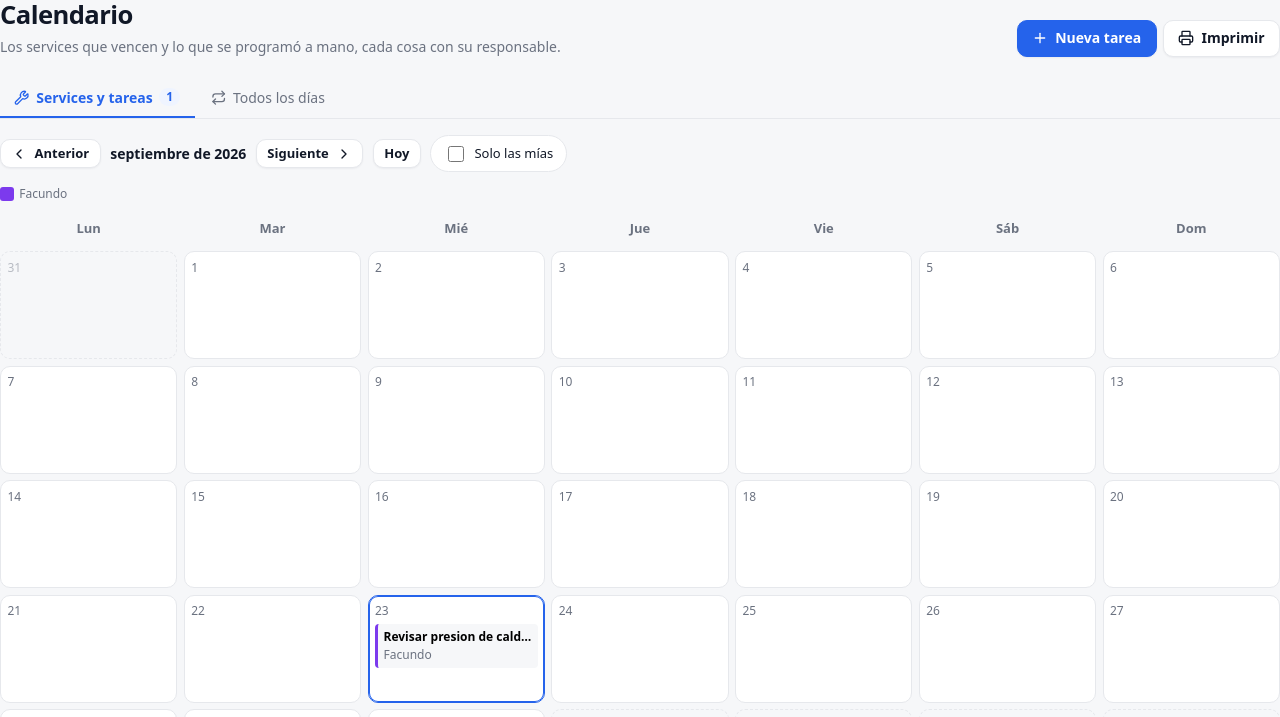
it: CalendarioPage › el detalle de una tarea propia ofrece darla por hecha
Click the text "Revisar presion de caldera".
click(458, 637)  # box left=384, top=628, right=532, bottom=646
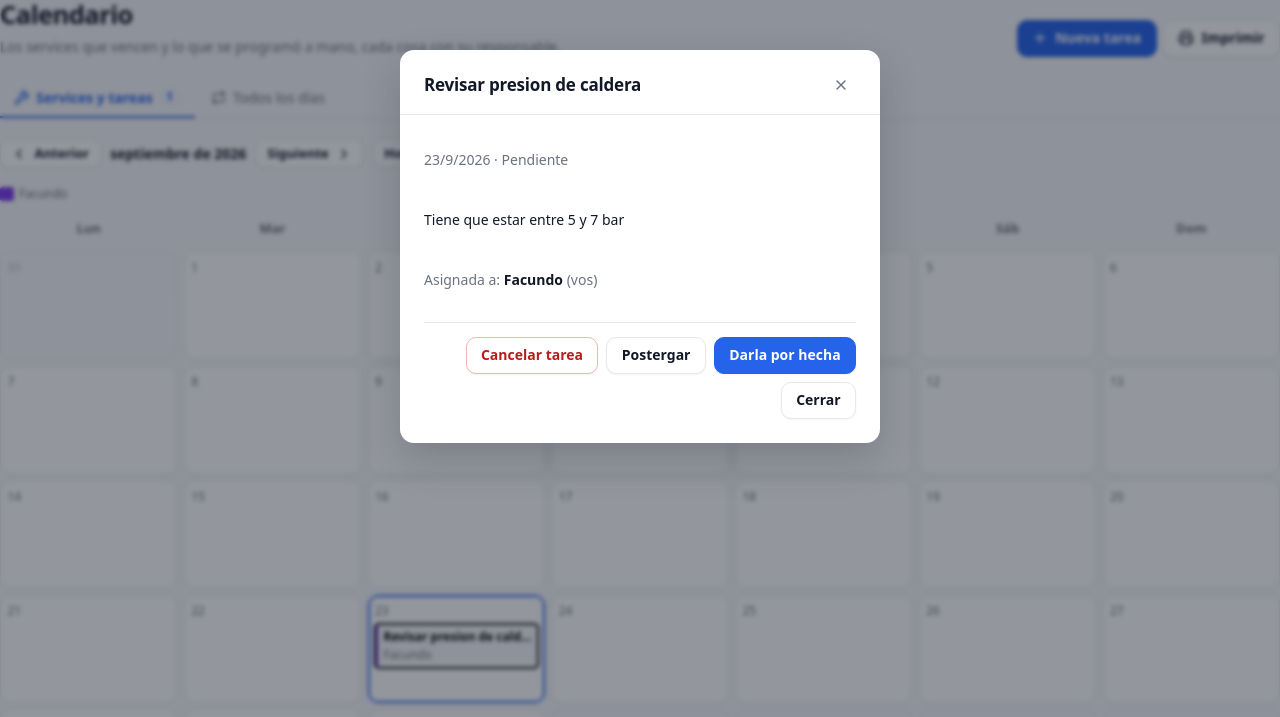
Now the button "Darla por hecha" is shown, box left=714, top=337, right=856, bottom=374
